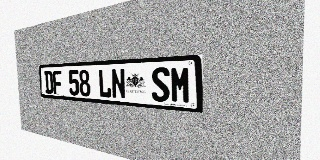5: (68, 70, 80, 96)
8: (79, 69, 91, 97)
D: (44, 71, 54, 94)
F: (52, 70, 62, 95)
L: (98, 69, 112, 98)
M: (170, 66, 191, 104)
N: (111, 68, 126, 99)
S: (151, 67, 170, 102)
